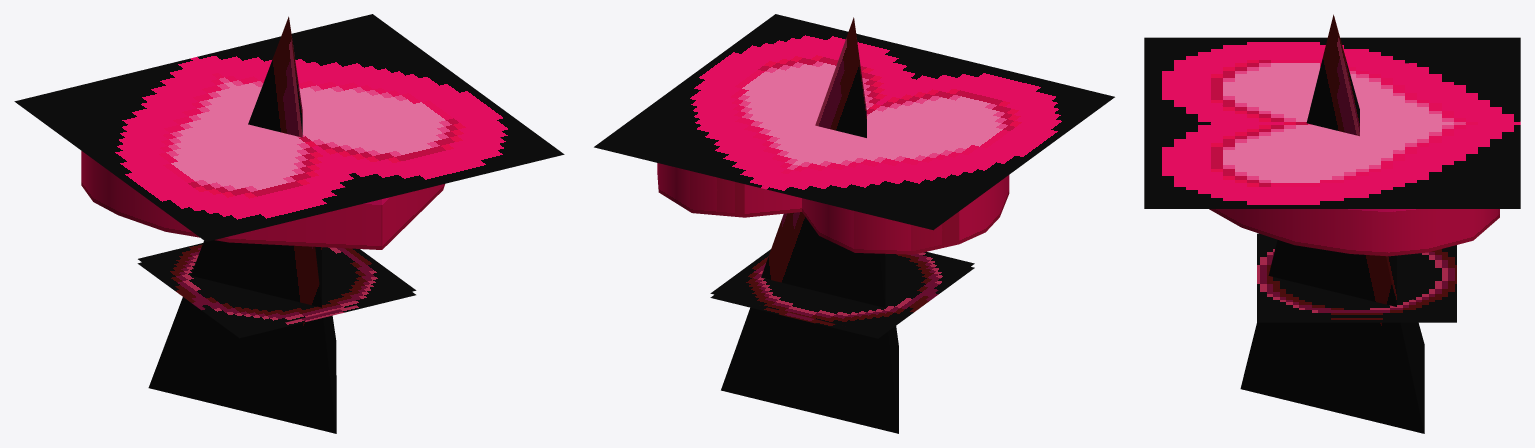
3 renders of one model, left to right at view 1: azimuth 30°, elevation 25°; view 2: azimuth 150°, elevation 25°; view 3: azimuth 270°, elevation 25°, orthographic. The views are drawn at different scales.
Visible parts, largest first — view 1: 3823kg3_ser04; view 2: 3823kg3_ser04; view 3: 3823kg3_ser04.
Part boxes in pixels (bbox=[...]): 3823kg3_ser04: bbox=[14, 14, 564, 433]; 3823kg3_ser04: bbox=[594, 14, 1114, 433]; 3823kg3_ser04: bbox=[1144, 14, 1520, 433].
Bounding box in the file's own units: 1.04 × 1.06 × 0.9624.
3 materials, 3 textured.
